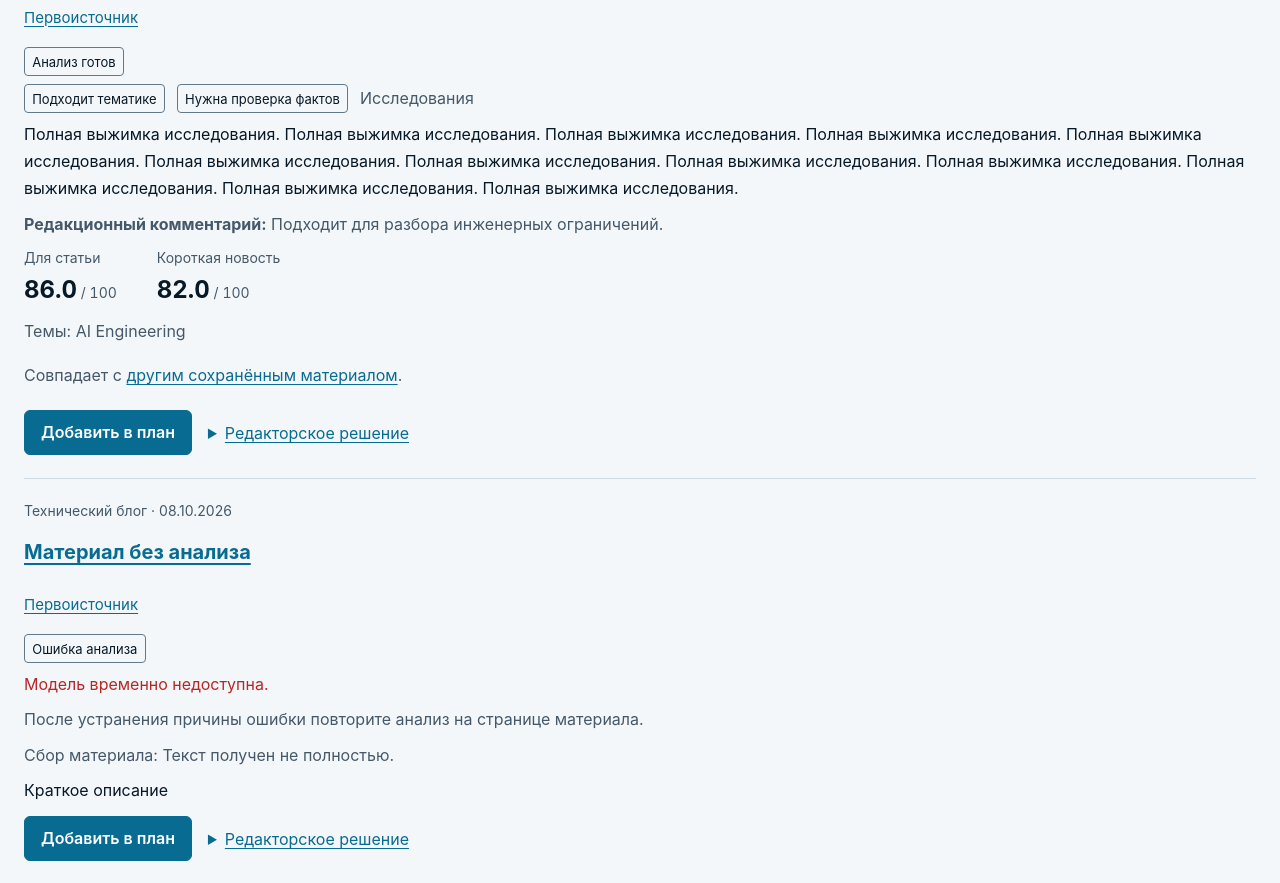
protected editorial routes › renders news as list rows without losing full analysis, excerpt or editorial actions
(page scrolled)
expect the text "Подходит для разбора инженерных ограничений." is shown: met, box [271,214,663,234]
expect the text "Анализ готов" is shown: met, box [24,47,124,76]
Click the heading "Редакторское решение" below "Совпадает с" at (317, 433), box [225,423,409,443]
(page scrolled)
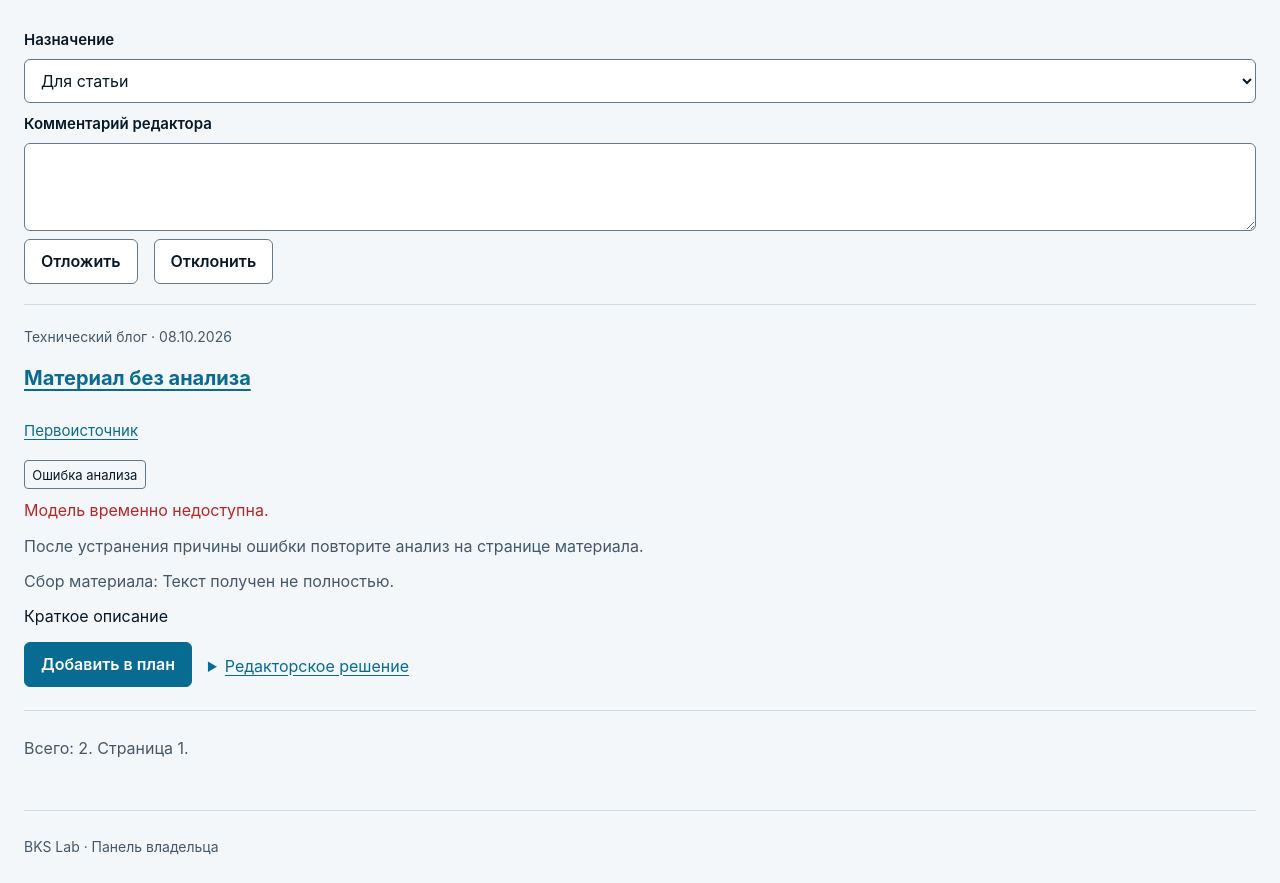
expect the button "Отложить" is shown: met, box [24,238,138,284]
expect the button "Отклонить" is shown: met, box [154,238,273,284]
expect the dropdown labelled "Назначение" is shown: met, box [24,59,1256,103]
